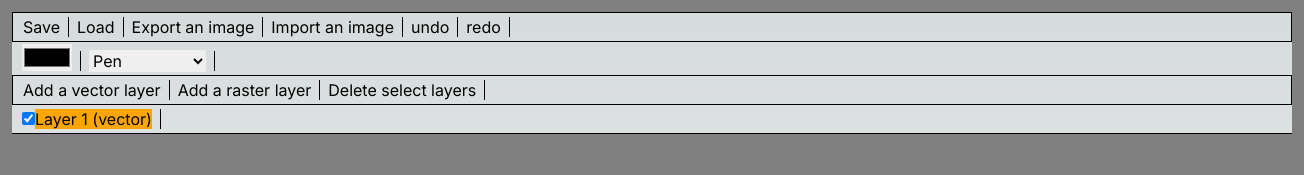
Test: App › delete selected layers › try to delete all layers
What coordinates should you click on to do the following:
click the button with test id "addVectorLayerButton"
I would click on:
 (92, 90)
Its box is [23,78,161,102].
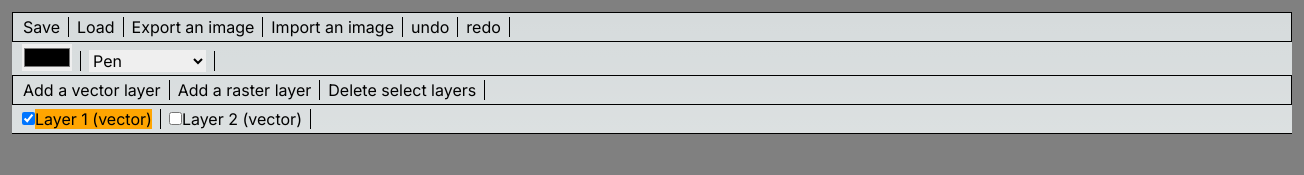
What coordinates should you click on to do the following:
click the checkbox labelled "Layer 2 (vector)"
I would click on:
 (175, 118)
Its box is [169,112,182,125].
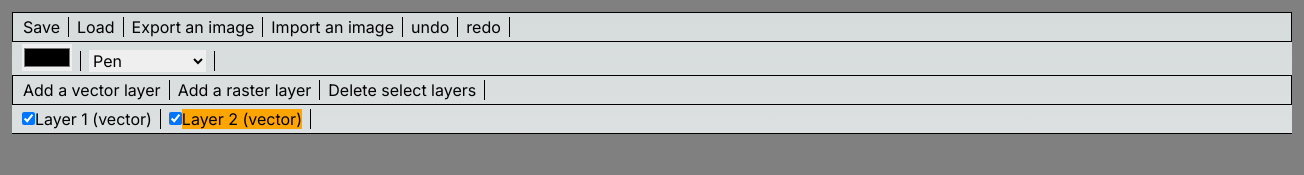
What coordinates should you click on to do the following:
click the button with test id "deleteSelectedLayersButton"
I would click on:
 (402, 90)
Its box is [328,78,476,102].
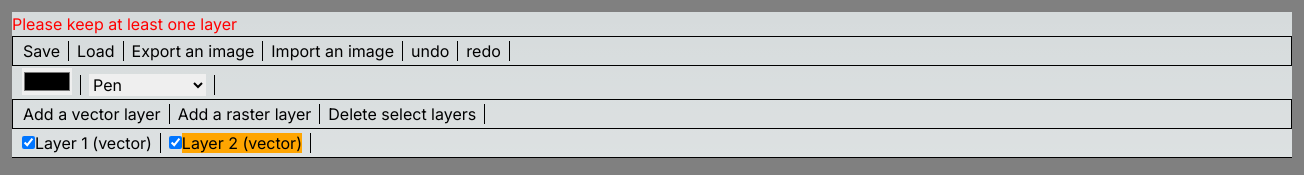
Check: the text with test id "statusMessage" reads "Please keep at least one layer", box [12,14,237,34]
